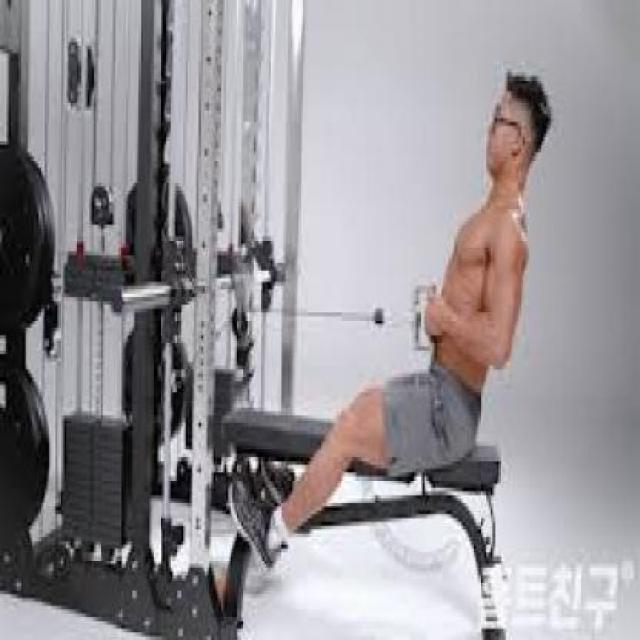Seated Cable Rows: (0, 7, 578, 632)
